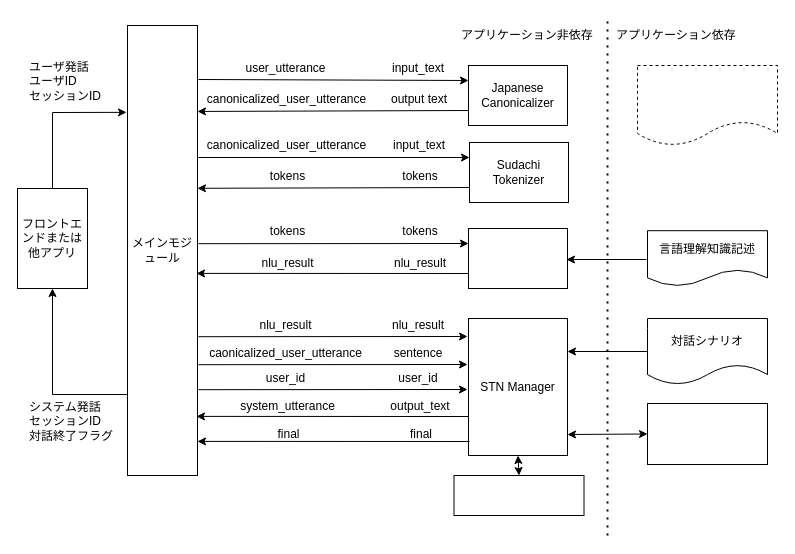
This 795x554 diagram has some shape labels left out. The shapes that lost their labels are listed below. From the top down, each one's centre as x and y in pixels, then its label:
At [707,105]: "アプリケーション コンフィギュレーションファイル".
At [518,258]: "SNIPS Understander".
At [707,433]: "アプリケーション依存の条件・アクション関数".
At [518,495]: "組み込みの 条件・アクション関数".
